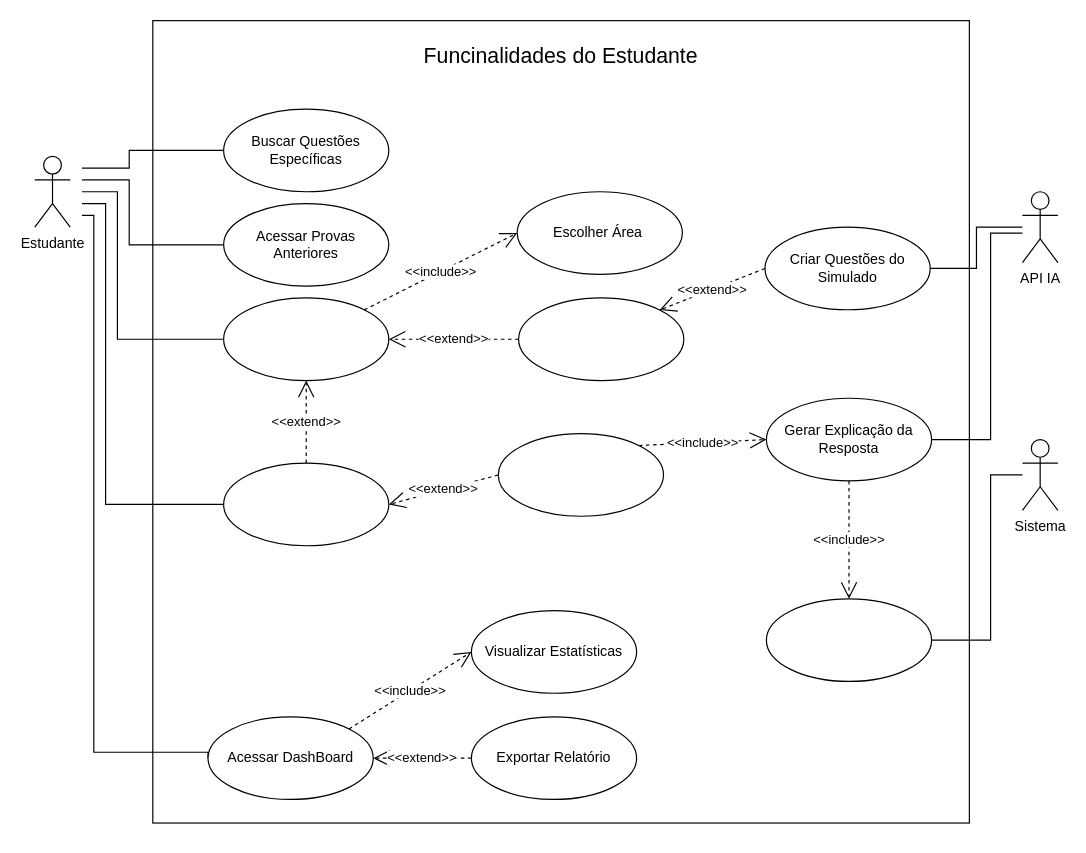
This 1086x853 diagram has some shape labels left out. The box of each missing label's shape, as (x1, y1, x2, y2) in pixels:
Criar Simulados Personalizados: (222, 297, 389, 381)
Definir Quantidade de Questões: (517, 297, 684, 381)
Responder Simulado: (222, 462, 389, 546)
Salvar Resposta no Banco de Dados: (765, 598, 932, 681)
Ver Explicação da Resposta: (497, 432, 664, 516)
